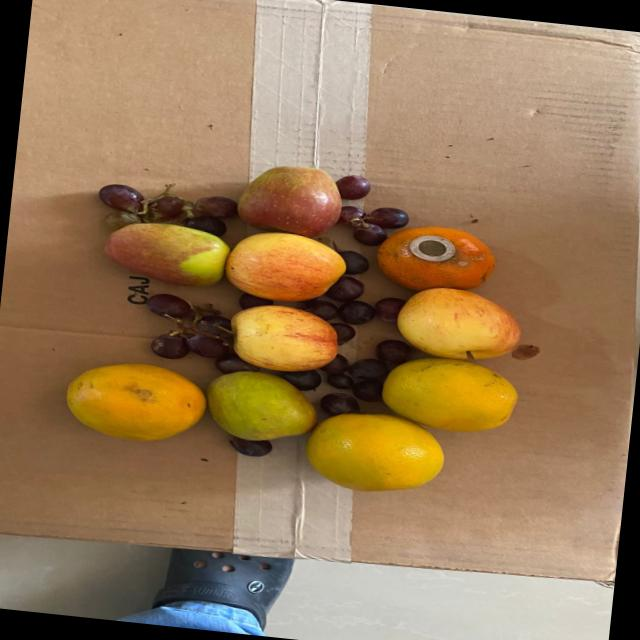moneda: (396, 230, 452, 264)
